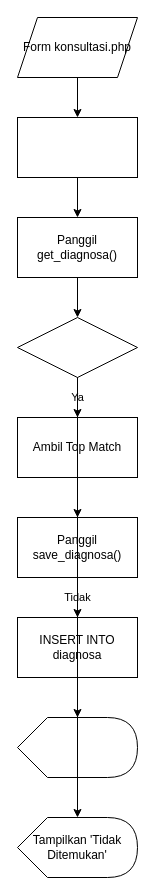
Image size: 155x895. Some labels were removed from this diagram. Here are the shapes that lost their labels. From the top down, the box of each, then its label:
(16, 116, 138, 178): POST Data ke hasil.php
(16, 316, 138, 378): Hasil Ditemukan?
(16, 716, 138, 778): Tampilkan Hasil
